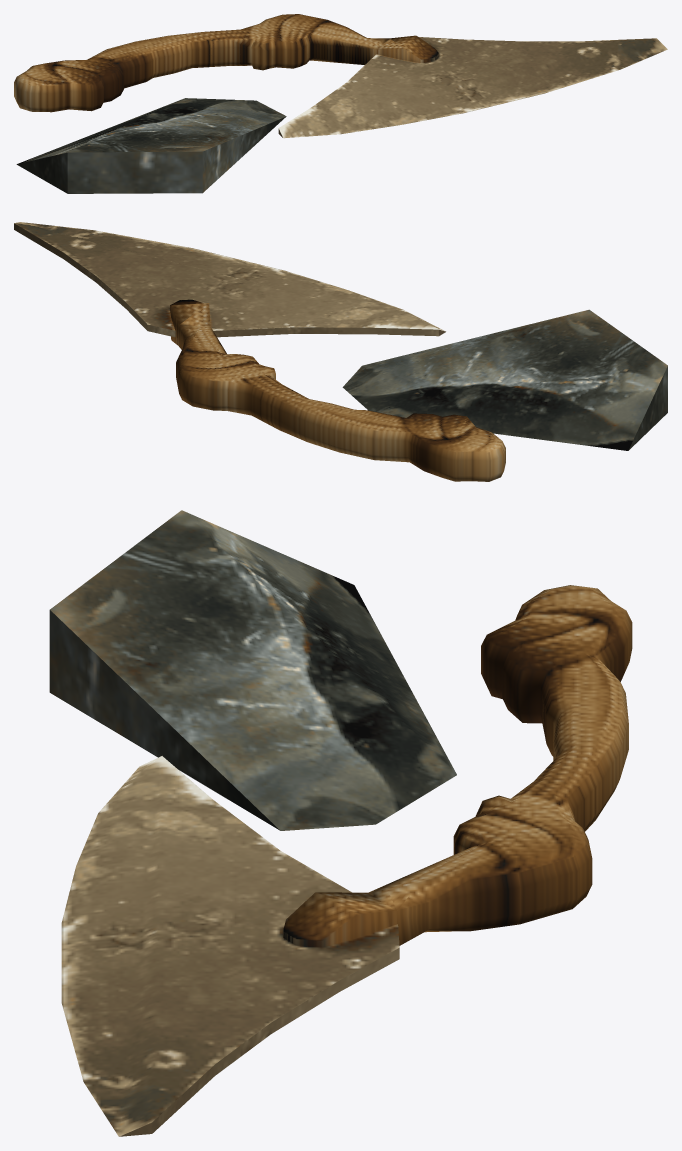
File: flint_steel.fbx
3 views of the same model, one above another, from view 1: azimuth 30°, elevation 25°; view 2: azimuth 150°, elevation 25°; view 3: azimuth 270°, elevation 25° (orthographic). The views are drawn at different scales.
Visible parts, largest first — view 1: flint_steel; view 2: flint_steel; view 3: flint_steel.
Boxes of the visible parts, <box> form: flint_steel: <box>14,14,667,193</box>; flint_steel: <box>14,222,667,481</box>; flint_steel: <box>49,510,632,1136</box>.
Bounding box in the file's own units: 22.8 × 1.53 × 9.7.
1 material, 1 textured.
